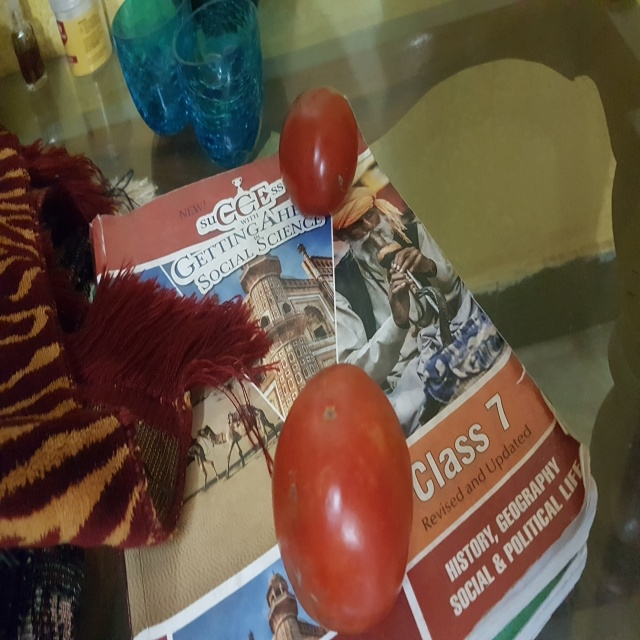tomato: (275, 356, 414, 636), (275, 85, 367, 221)
